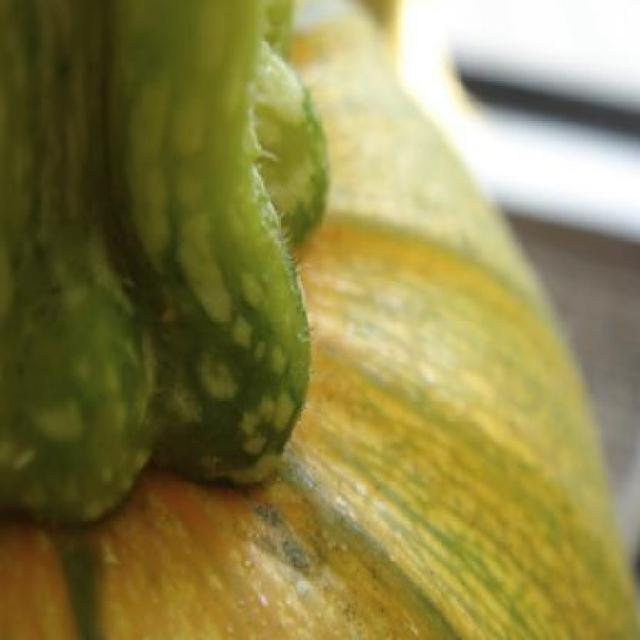Cucumber: (28, 4, 372, 544)
